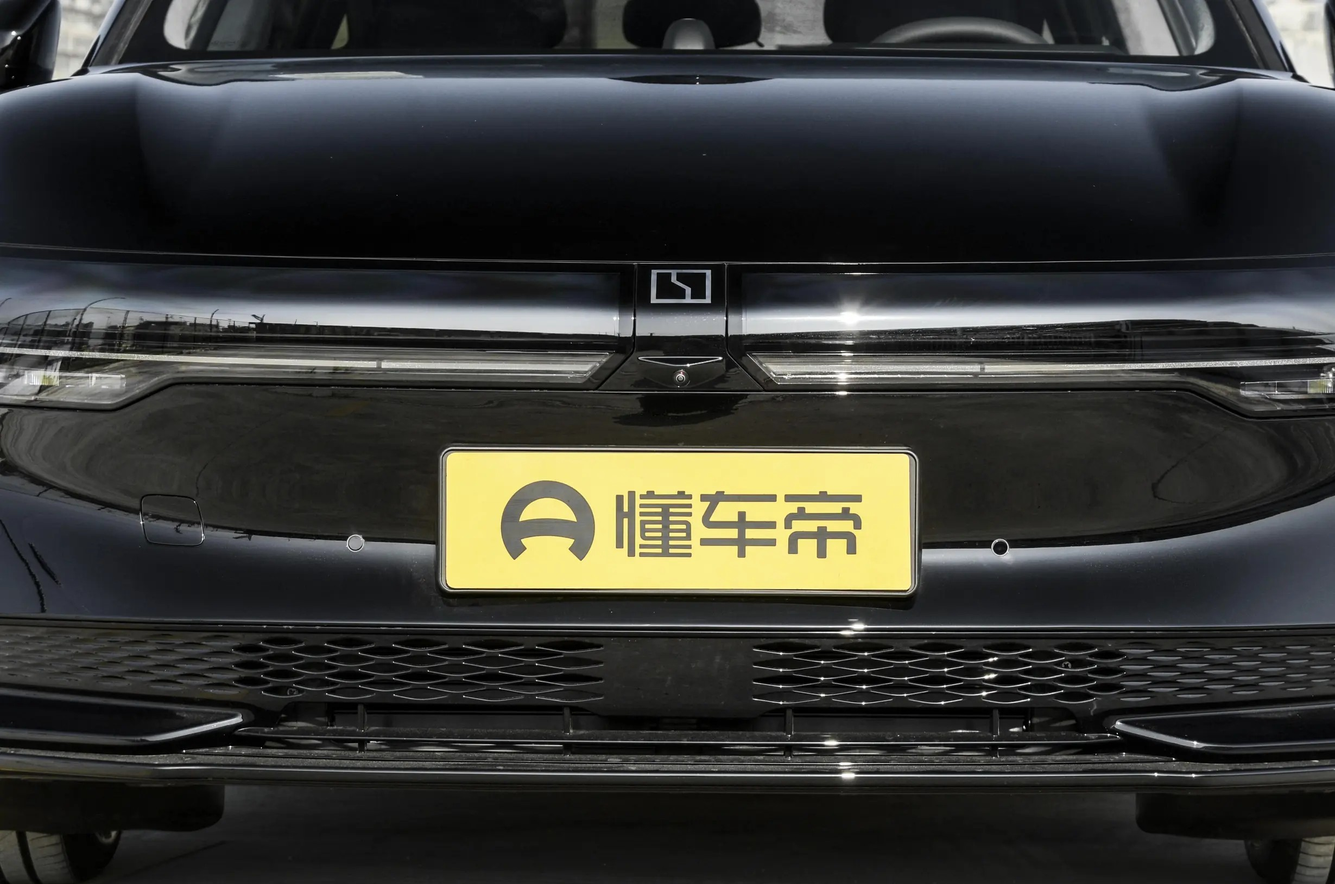ZEEKR: (651, 270, 711, 303)
